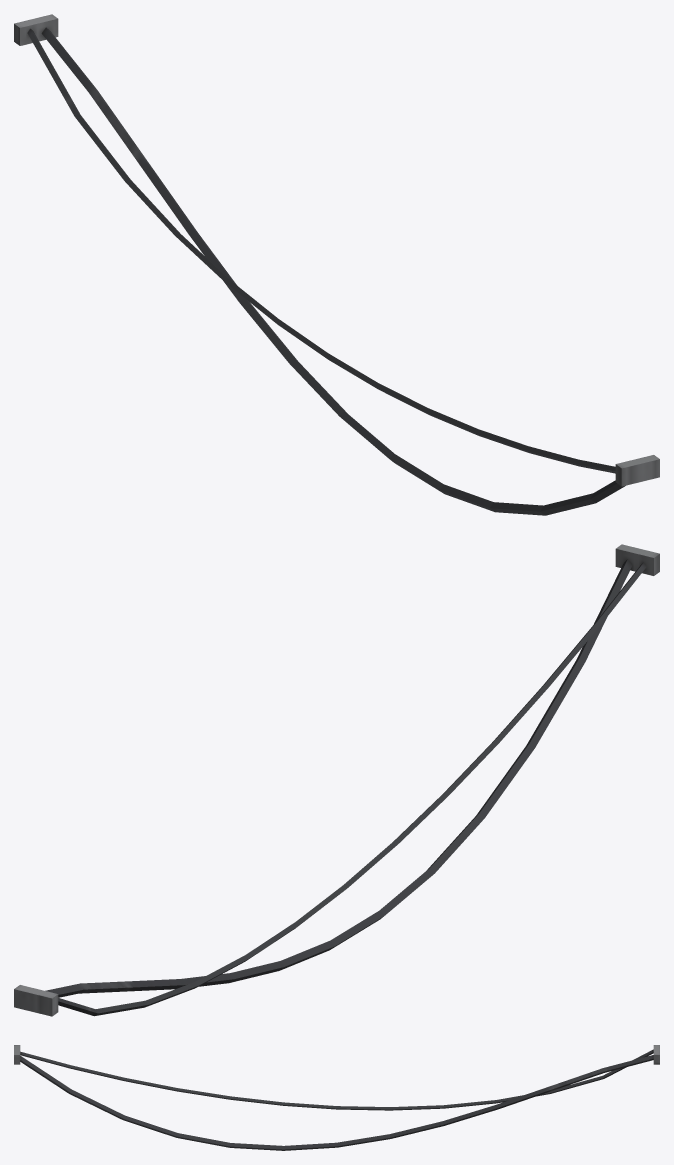
File: nodexeus-set-run-cable-b.glb
The picture shows the model from 3 angles, top to bottom: view 1: azimuth 30°, elevation 25°; view 2: azimuth 150°, elevation 25°; view 3: azimuth 270°, elevation 25°; orthographic projection. The views are drawn at different scales.
Visible parts, largest first — view 1: set-run-cable-b; view 2: set-run-cable-b; view 3: set-run-cable-b.
Boxes of the visible parts, left/top/right/bottom form: set-run-cable-b: left=14, top=14, right=659, bottom=515; set-run-cable-b: left=14, top=544, right=659, bottom=1016; set-run-cable-b: left=14, top=1045, right=659, bottom=1150.
Size of the model in its own units: 0.22 by 1.03 by 6.06.
Materials: 1 (1 with a texture image).
